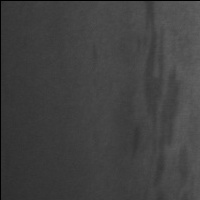inclusion: (135, 4, 184, 195)
